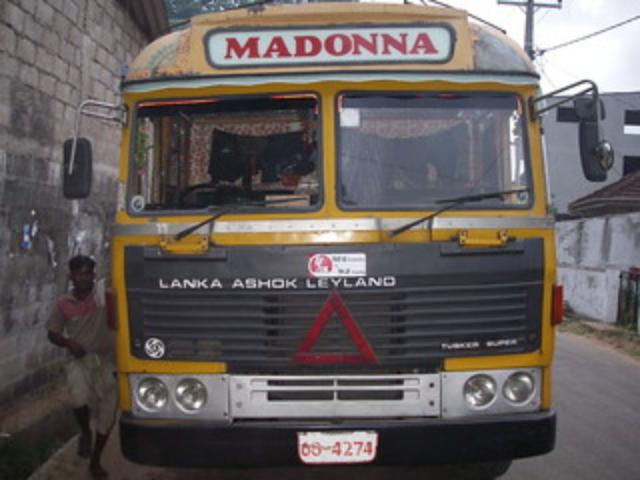bus: (64, 2, 608, 480)
